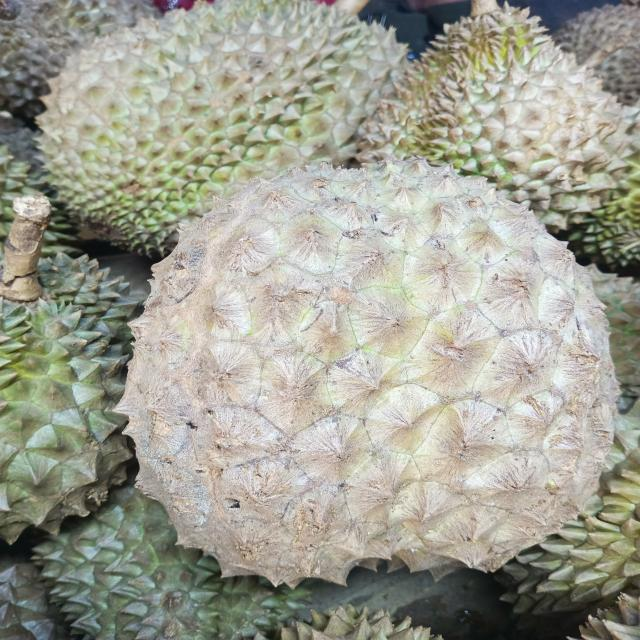mature: (120, 157, 617, 588), (38, 0, 406, 254), (360, 0, 635, 228), (0, 195, 129, 540), (33, 479, 307, 640), (570, 495, 624, 582)
